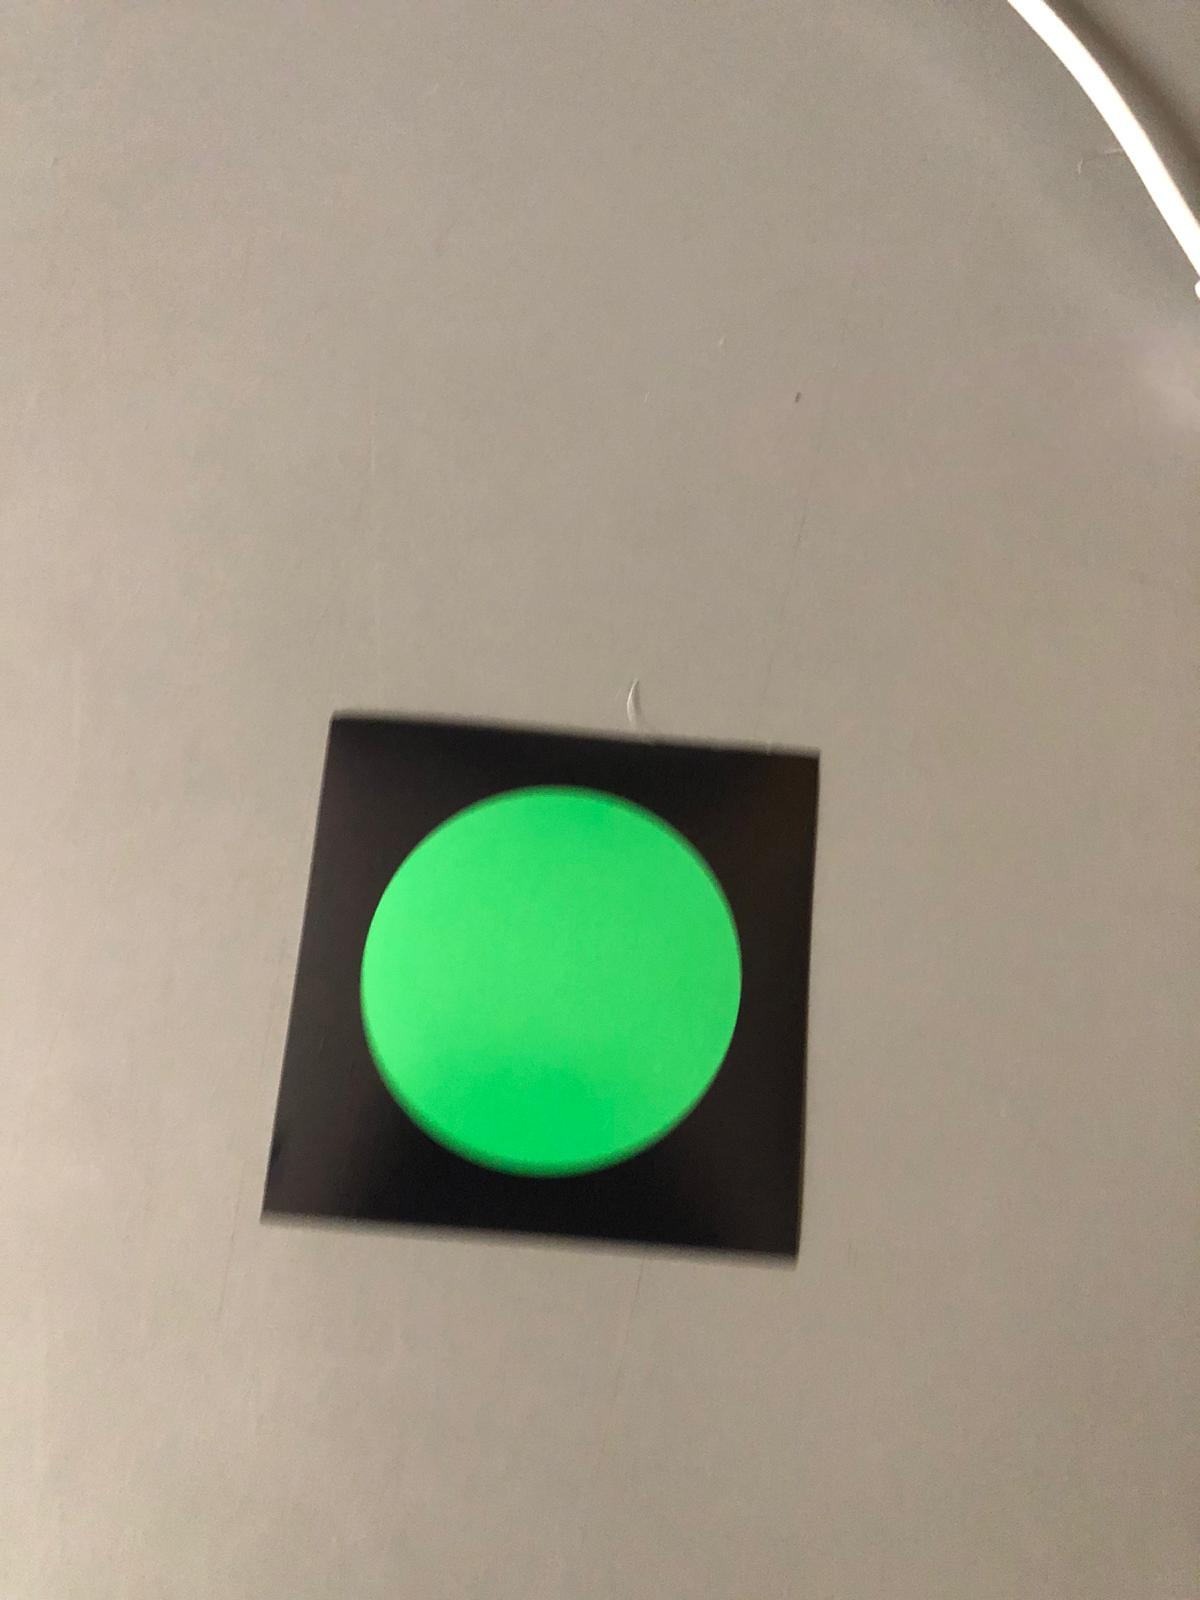Circle: (334, 732, 807, 1232)
